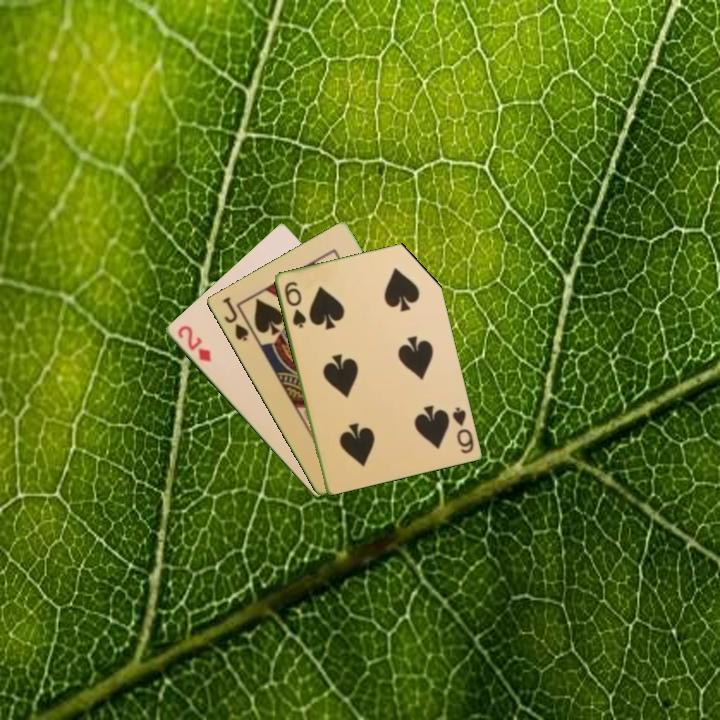2d: (173, 322, 214, 365)
6s: (281, 278, 309, 331), (448, 403, 476, 456)
Js: (218, 293, 251, 344)
